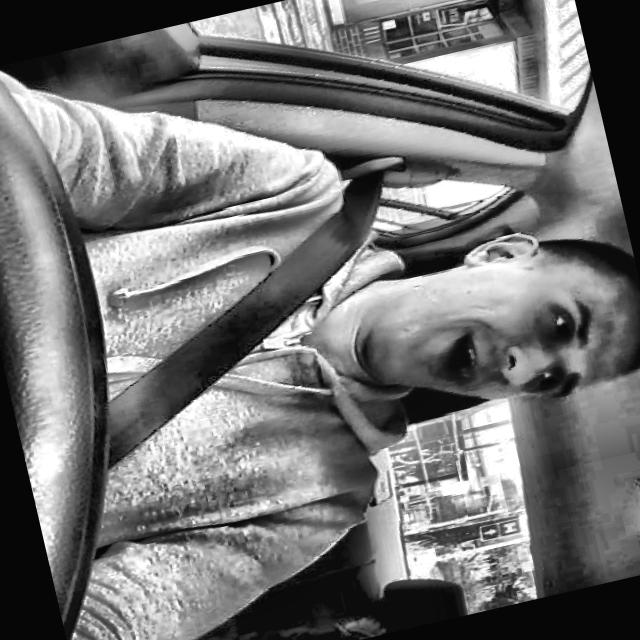open_eyes: (536, 295, 582, 353), (533, 363, 575, 407)
open_mouth: (409, 313, 493, 403)
